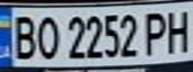2: (63, 11, 87, 61), (118, 10, 142, 58), (84, 11, 106, 61)
5: (103, 11, 124, 60)
B: (6, 11, 39, 61)
H: (160, 7, 193, 54)
O: (33, 12, 60, 61)
P: (139, 8, 172, 56)
